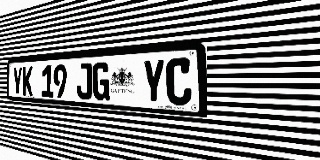1: (41, 65, 53, 97)
9: (54, 64, 67, 98)
C: (166, 57, 192, 106)
G: (93, 62, 110, 101)
J: (77, 63, 92, 100)
K: (23, 66, 33, 96)
Y: (142, 59, 165, 104), (13, 67, 22, 95)
